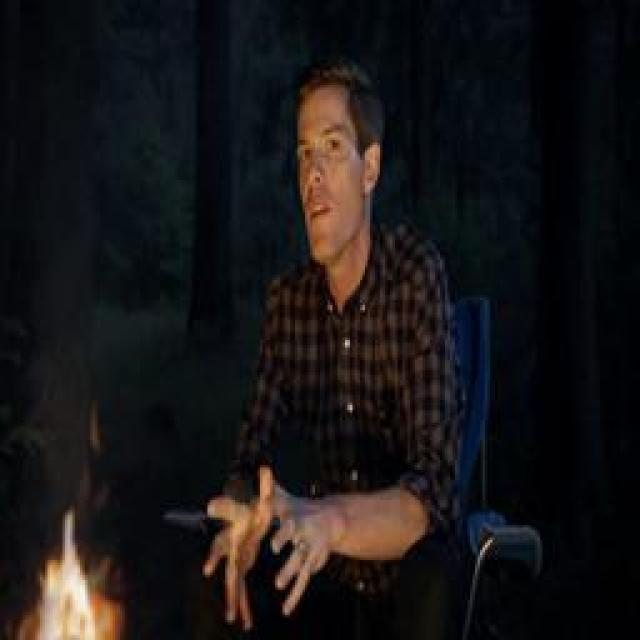Fire: (17, 510, 122, 640)
